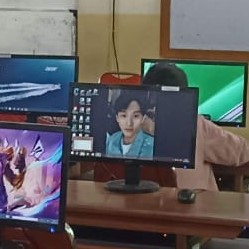monitor: (67, 82, 199, 170), (0, 121, 71, 232), (141, 58, 249, 129), (0, 55, 79, 116)
